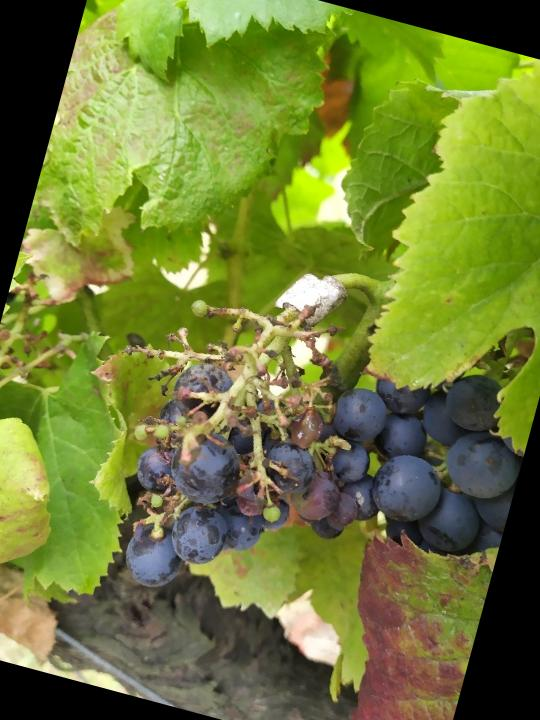grape: (64, 268, 404, 638)
